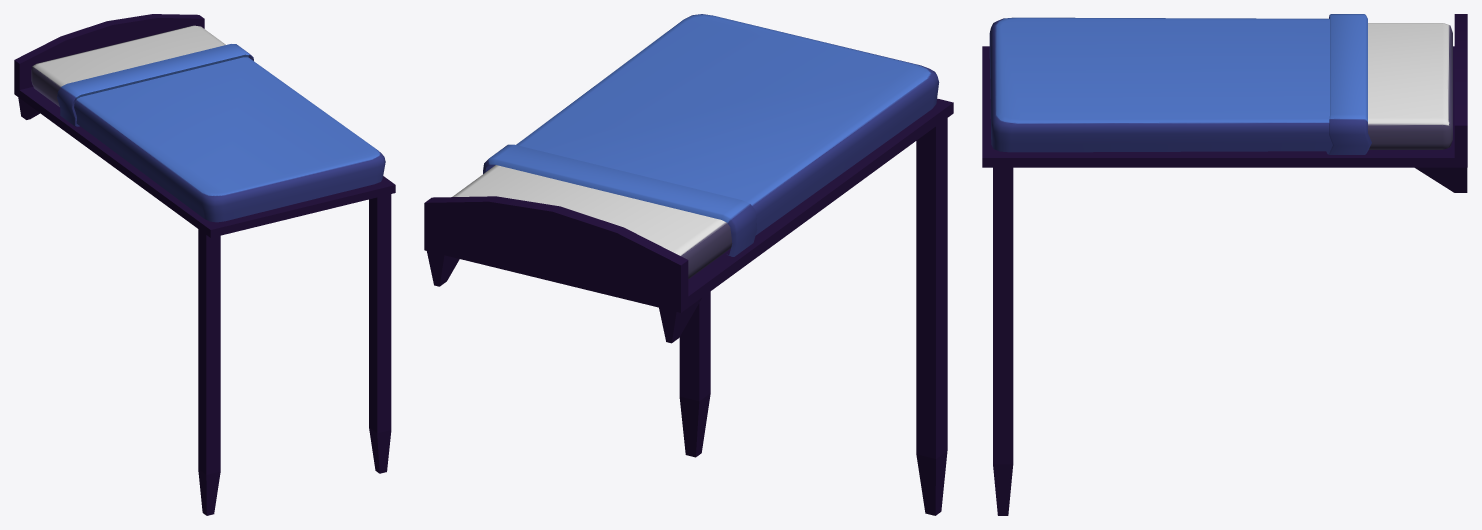
File: SM_Lit_Superpose.FBX
3 renders of one model, left to right at view 1: azimuth 30°, elevation 25°; view 2: azimuth 150°, elevation 25°; view 3: azimuth 270°, elevation 25°, orthographic. The views are drawn at different scales.
Visible parts, largest first — view 1: Object004, Object002, Object003; view 2: Object004, Object002, Object003, Object005, Object006; view 3: Object004, Object002, Object003, Object006.
Part boxes in pixels (x1,y1,x2,y2): Object004: [57, 44, 385, 222]; Object002: [14, 14, 395, 515]; Object003: [31, 25, 225, 106]; Object004: [483, 14, 939, 256]; Object002: [424, 98, 953, 515]; Object003: [452, 165, 732, 278]; Object005: [659, 298, 701, 343]; Object006: [427, 251, 459, 286]; Object004: [989, 14, 1371, 154]; Object002: [982, 14, 1467, 515]; Object003: [1368, 23, 1452, 149]; Object006: [1415, 167, 1467, 192].
Size of the model in its own units: 39.84 by 68.63 by 73.28.
3 materials, 3 textured.
